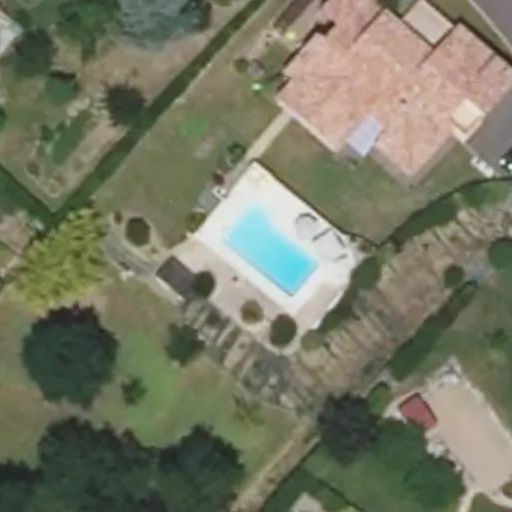pool: (205, 230, 315, 247)
